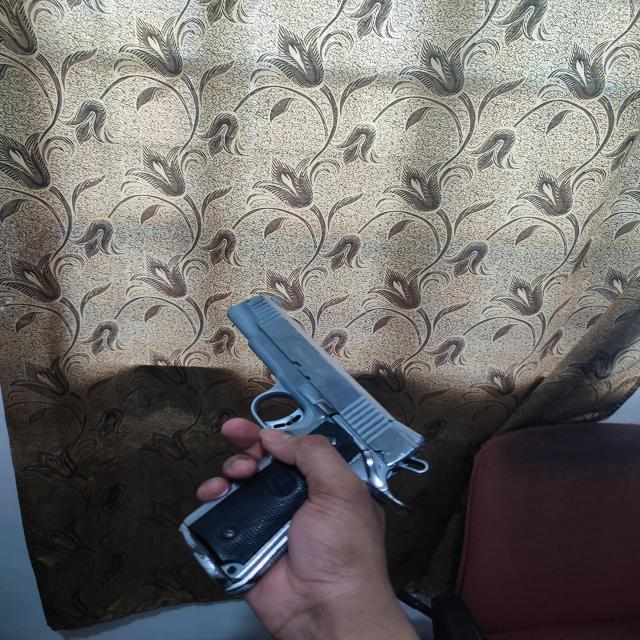pistol: (177, 296, 429, 597)
